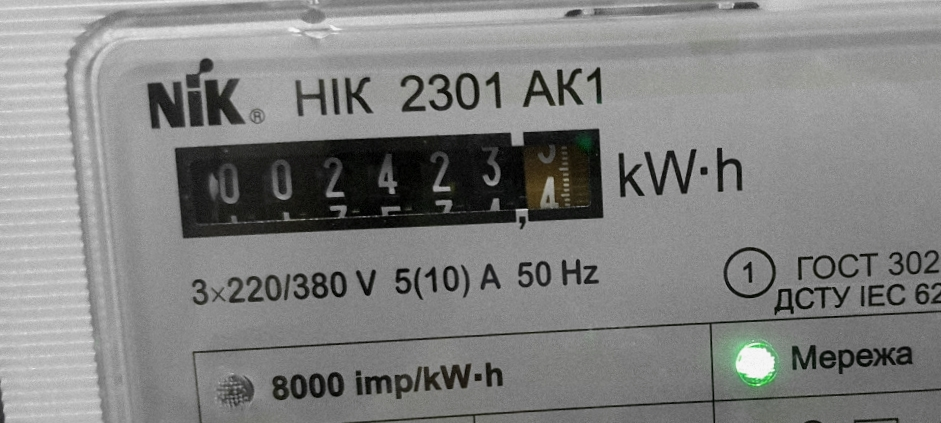0: (214, 158, 242, 207), (267, 156, 294, 202)
2: (319, 153, 346, 200), (427, 149, 452, 195)
3: (478, 143, 503, 189), (535, 141, 557, 165)
4: (374, 151, 398, 197), (534, 172, 561, 211)
screen: (163, 117, 617, 251)
